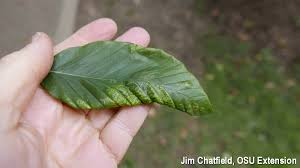Diseased_Leaves: (105, 83, 140, 108), (148, 84, 174, 106)
